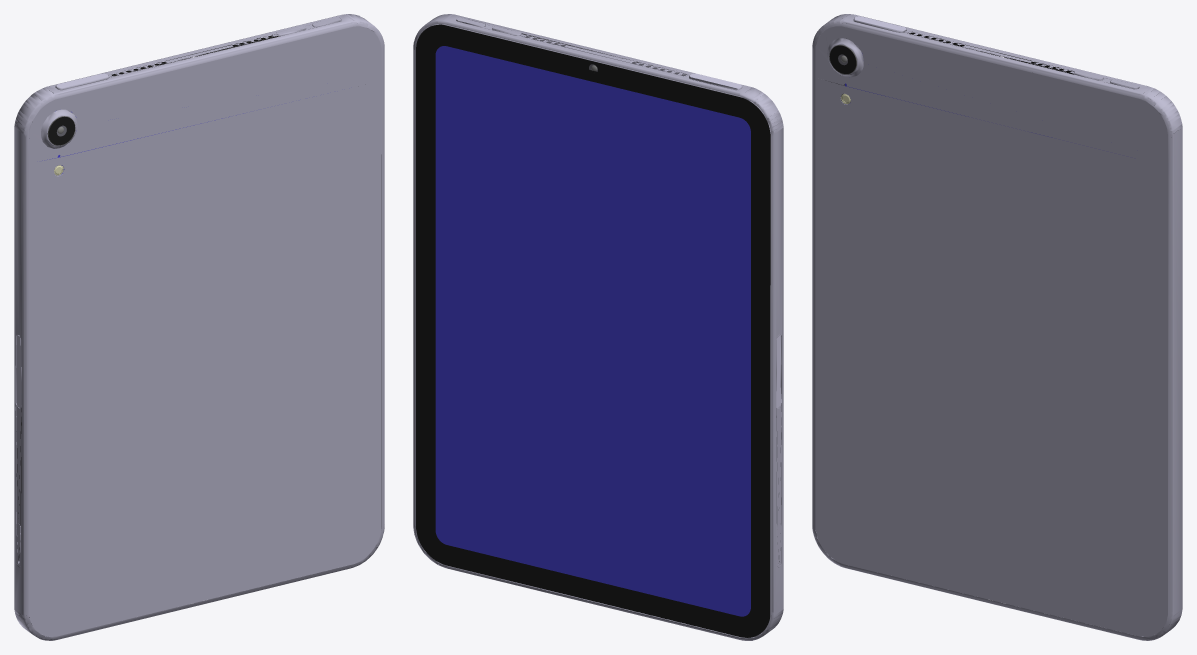
Rendered from Ipad.glb.
3 views of the same model, side by side, from view 1: azimuth 30°, elevation 25°; view 2: azimuth 150°, elevation 25°; view 3: azimuth 330°, elevation 25° (orthographic).
Parts seen in each view (by area): view 1: iPad Mini; view 2: iPad Mini; view 3: iPad Mini.
Boxes of the visible parts, x1,y1,x2,y2 form: iPad Mini: (14,14,384,640); iPad Mini: (413,14,783,640); iPad Mini: (812,14,1182,640).
Size of the model in its own units: 0.6831 by 0.9917 by 0.0455.
